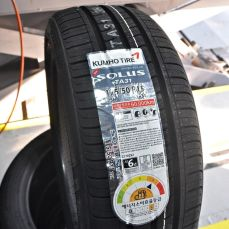new_condition: (42, 2, 204, 228)
